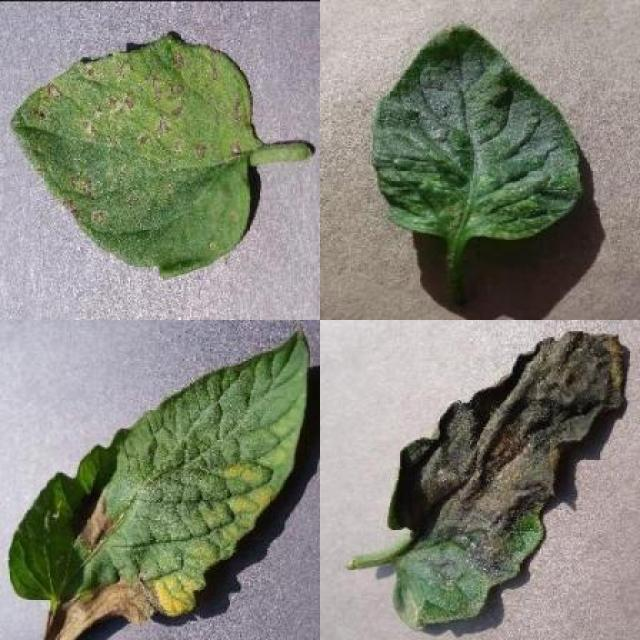Late Blight: (10, 325, 308, 640), (387, 332, 629, 628)
Septoria: (10, 32, 257, 282)
Spider Mites: (369, 20, 580, 243)
